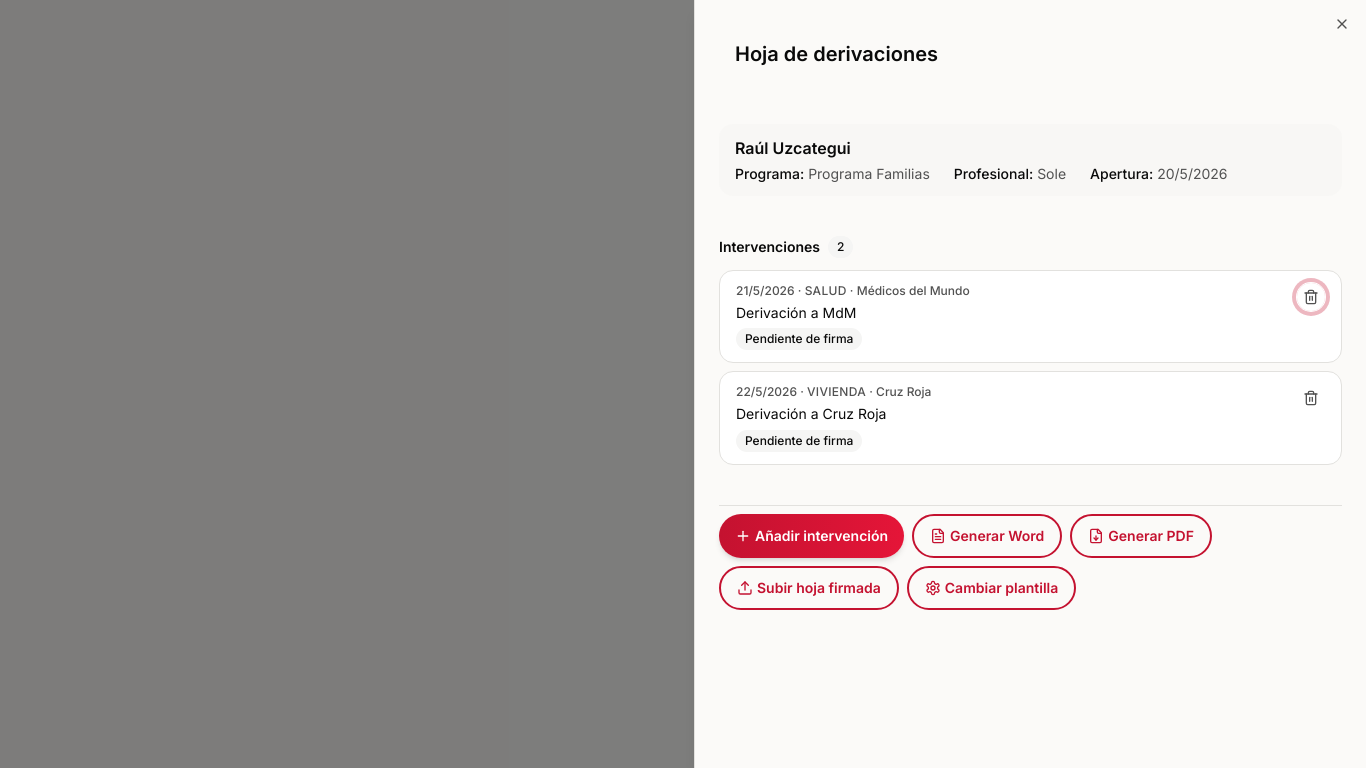
Test case: HojaDrawer — Template management (Batch 20) › shows listTemplates with { templates, activeTemplate } shape
Click the button "Cambiar plantilla": (992, 588) [907, 566, 1076, 610]
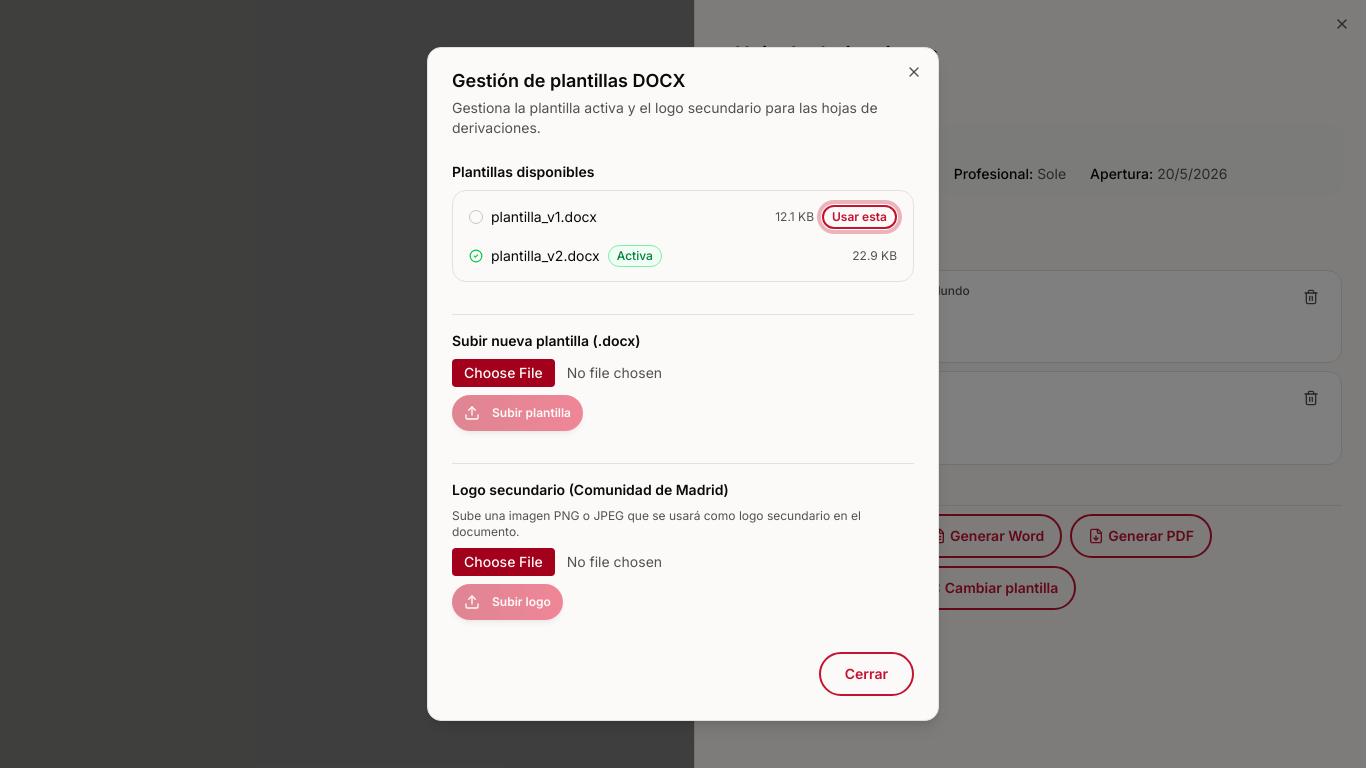
Check: the text "plantilla_v1.docx" is shown, box [491, 207, 597, 227]
Check: the text "plantilla_v2.docx" is shown, box [491, 246, 600, 266]
Check: the number of buttons named "usar plantilla" is 1, box [822, 205, 897, 229]
